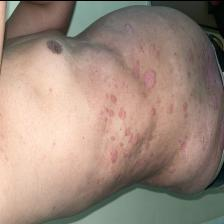Psoriasis vulgaris: (95, 48, 203, 188)
